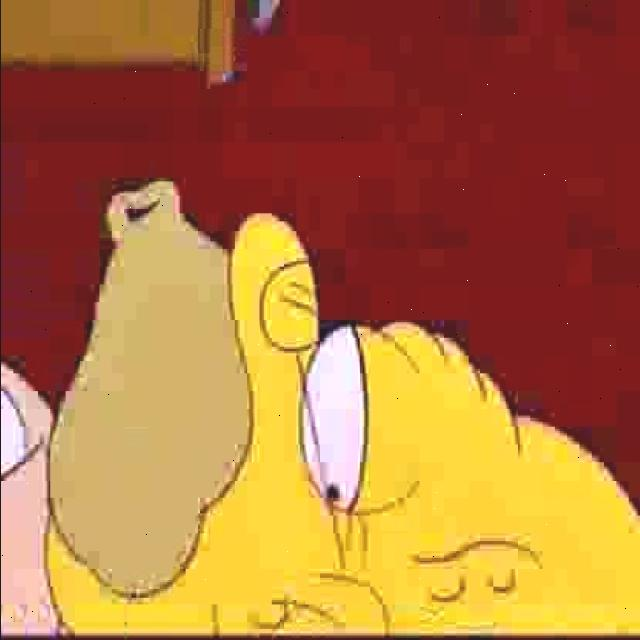Abraham Grampa Simpson: (37, 171, 640, 640)
